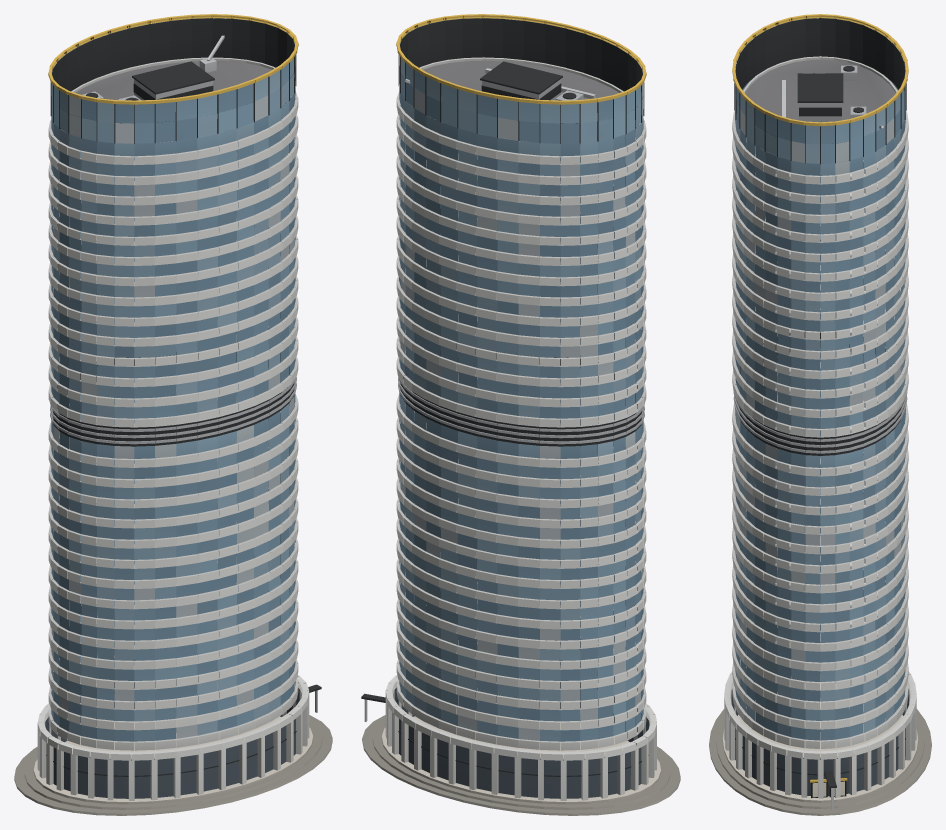
The picture shows the model from 3 angles, left to right: view 1: azimuth 30°, elevation 25°; view 2: azimuth 150°, elevation 25°; view 3: azimuth 270°, elevation 25°; orthographic projection. The views are drawn at different scales.
Visible parts, largest first — view 1: t1; view 2: t1; view 3: t1.
Boxes of the visible parts, x1,y1,x2,y2 form: t1: (14,14,332,815); t1: (361,14,680,815); t1: (709,14,931,815).
Bounding box in the file's own units: 60.89 × 136 × 40.47.
